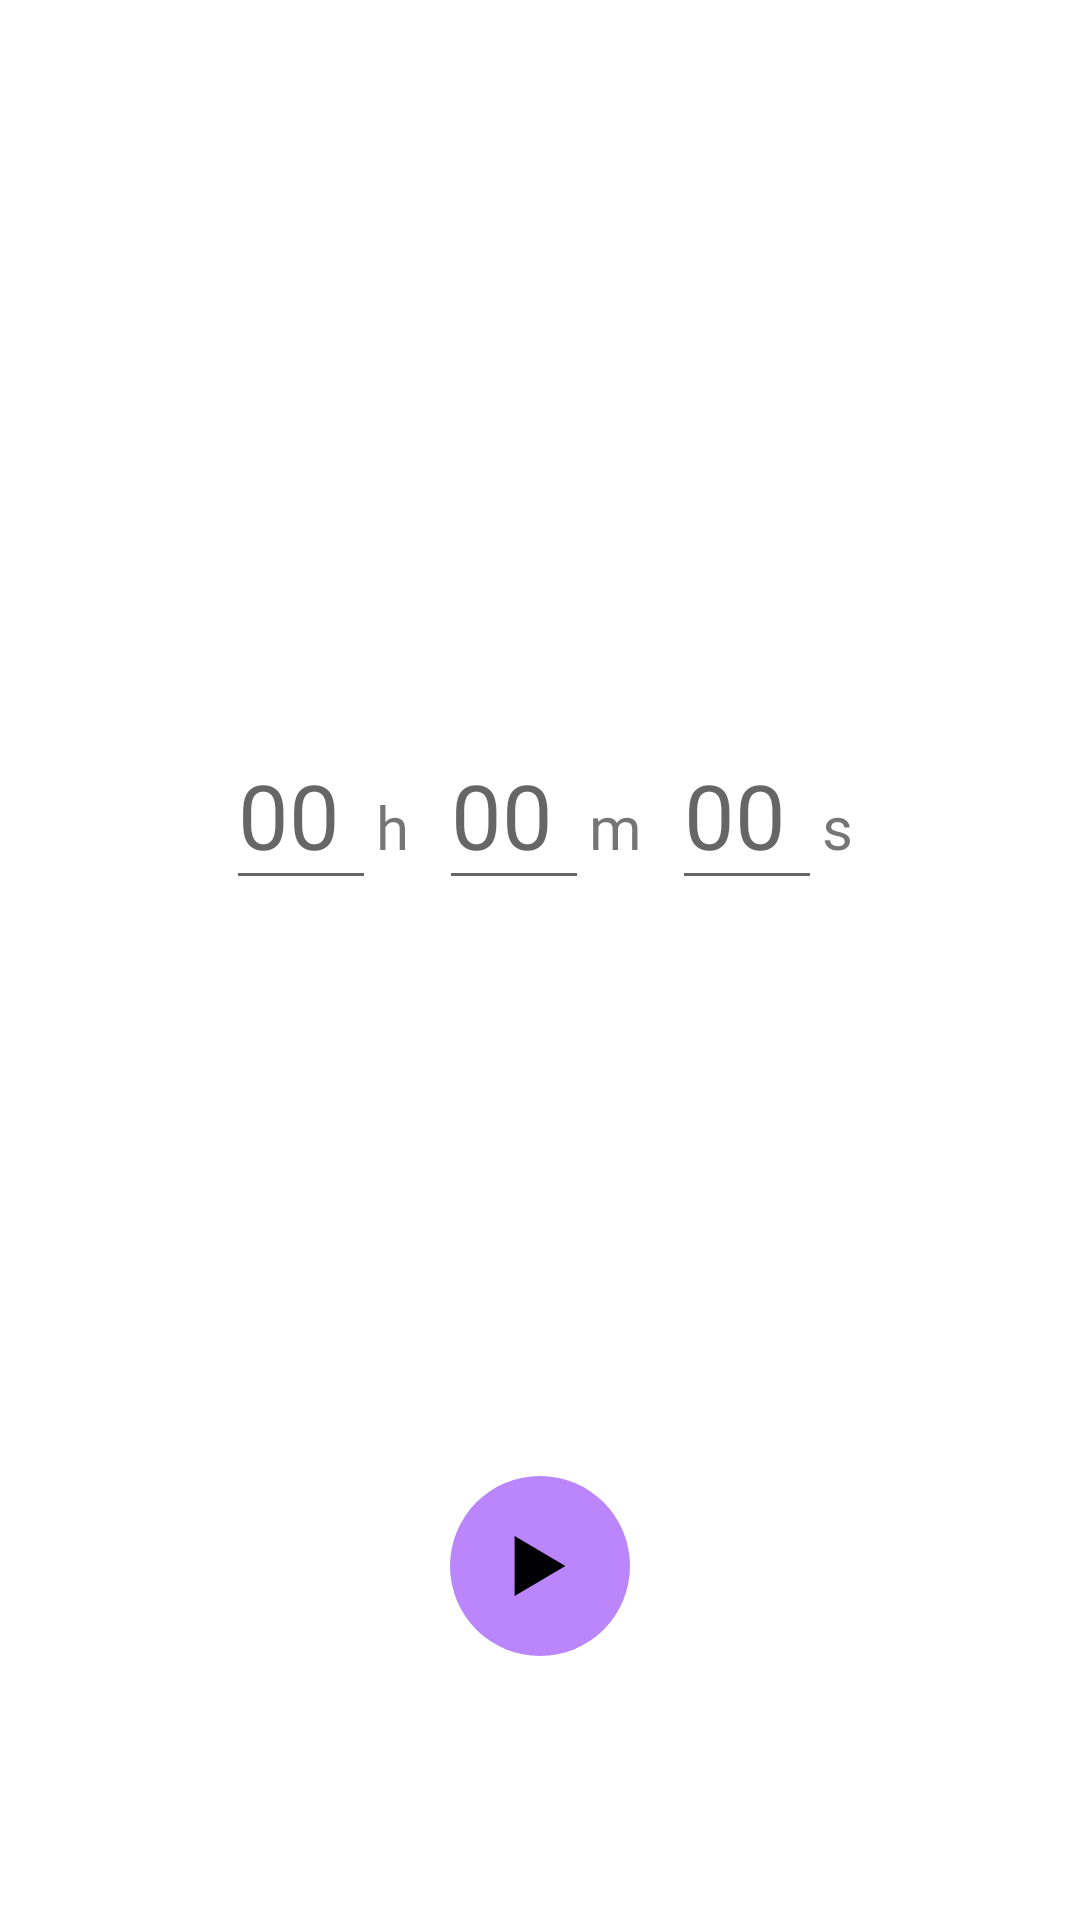

Named icons in this screenshot (1080*1920) and their centers, (x=x, y=y):
play: (x=540, y=1566)
